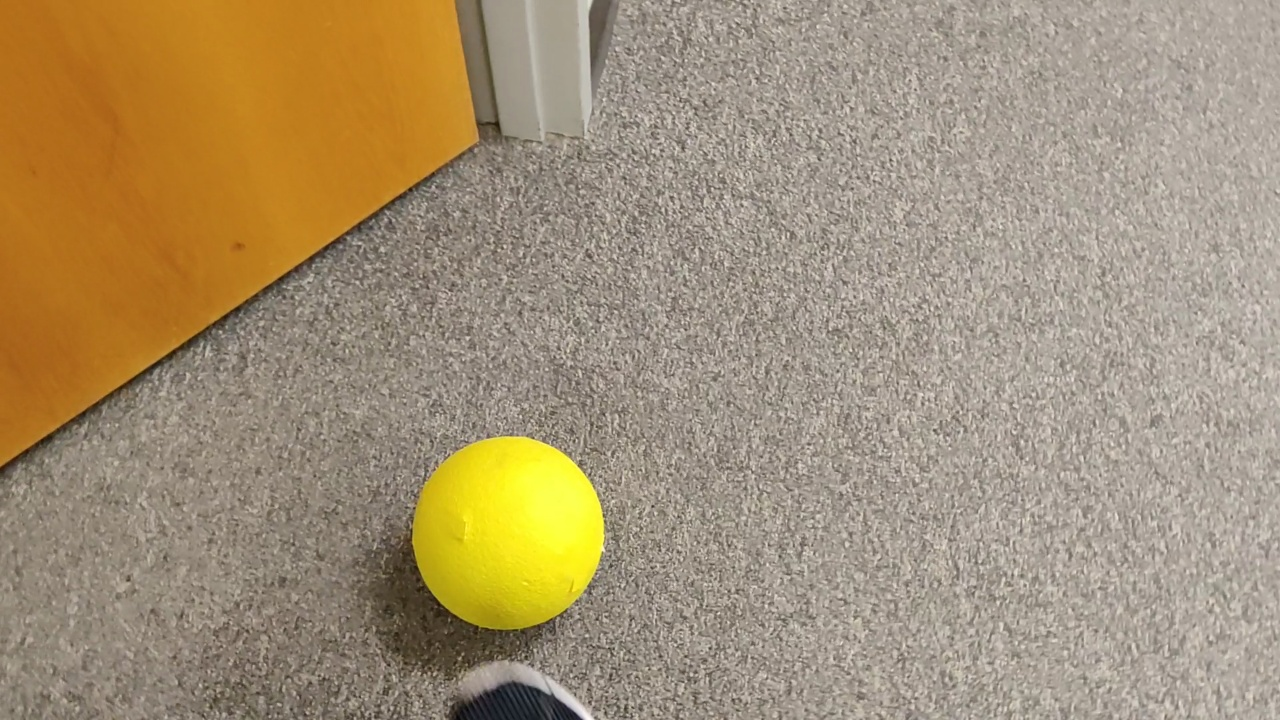Ball: (417, 435, 606, 631)
